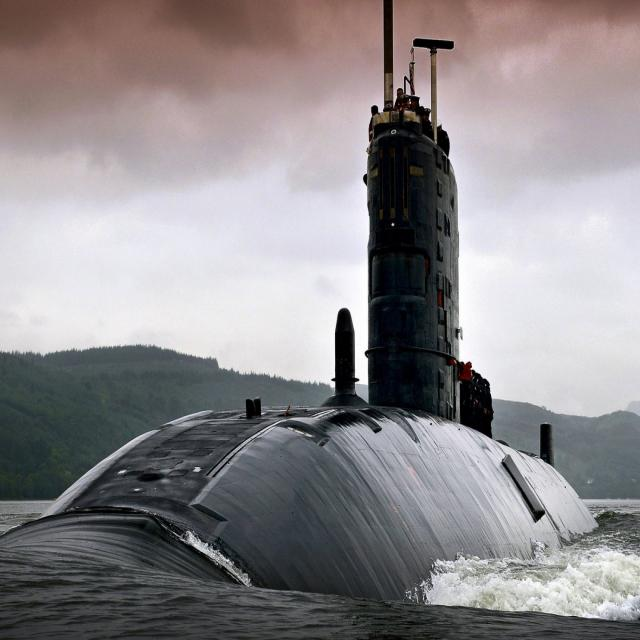submarine: (1, 1, 611, 630)
